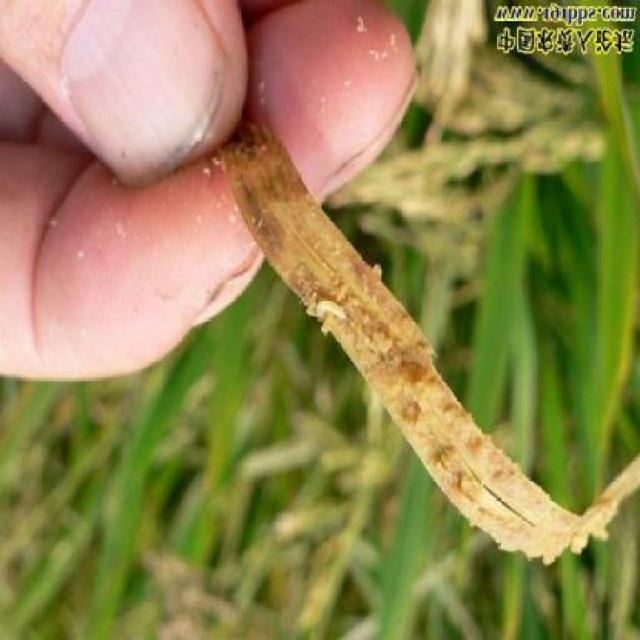whorl-maggot: (315, 291, 350, 332)
